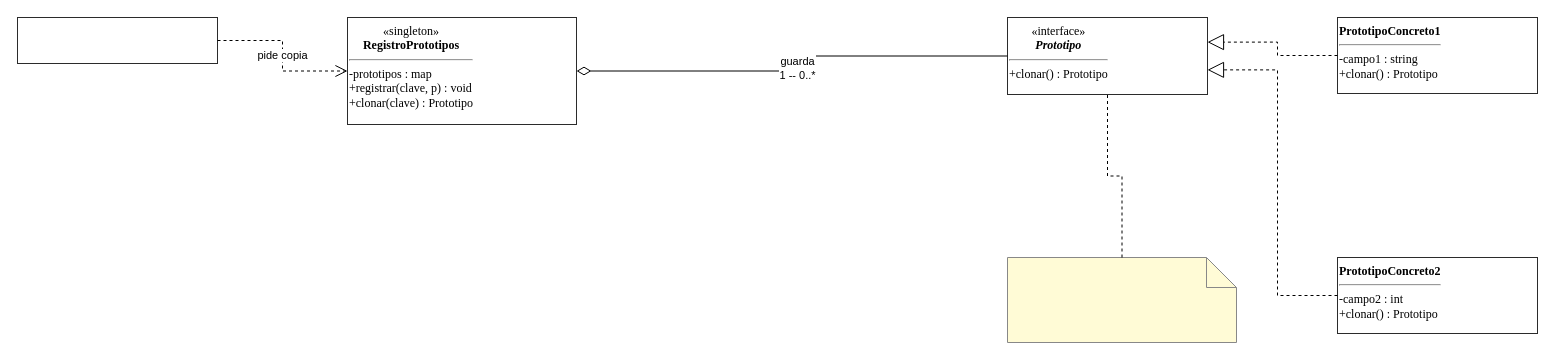
Some shapes in this 1555 by 360 pixel diagram are drawn without their labels. The shapes that lost their labels are listed below. From the top down, each one's centre as x and y in pixels, then its label:
point (117, 40): Cliente
point (1121, 299): clonar() devuelve una copia del ejemplar: superficial o profunda, según la clase
